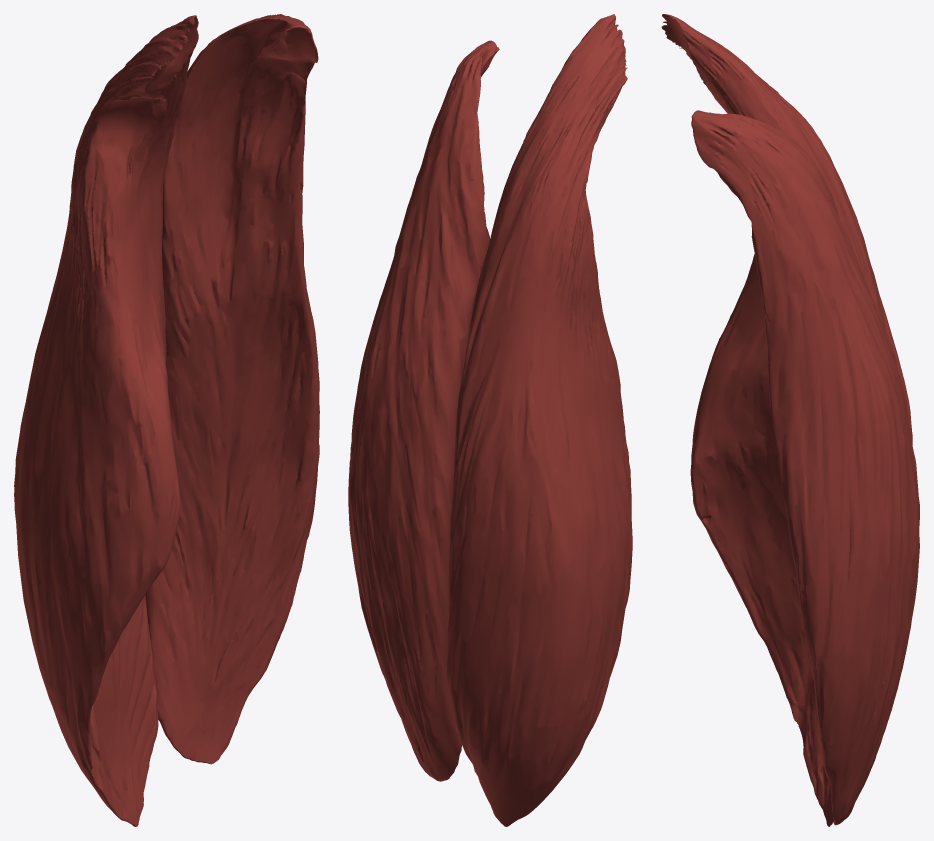
The model's file is explorar-gastrocnemius.glb.
The picture shows the model from 3 angles, left to right: view 1: azimuth 30°, elevation 25°; view 2: azimuth 150°, elevation 25°; view 3: azimuth 270°, elevation 25°; orthographic projection. The views are drawn at different scales.
Parts seen in each view (by area): view 1: gastrocnemius_left__cabeza_lateral, gastrocnemius_left__cabeza_medial; view 2: gastrocnemius_left__cabeza_medial, gastrocnemius_left__cabeza_lateral; view 3: gastrocnemius_left__cabeza_lateral, gastrocnemius_left__cabeza_medial.
Boxes of the visible parts, x1=… form: gastrocnemius_left__cabeza_lateral: x1=145, y1=14, x2=319, y2=764; gastrocnemius_left__cabeza_medial: x1=14, y1=15, x2=198, y2=826; gastrocnemius_left__cabeza_medial: x1=447, y1=14, x2=632, y2=826; gastrocnemius_left__cabeza_lateral: x1=348, y1=40, x2=499, y2=781; gastrocnemius_left__cabeza_lateral: x1=691, y1=110, x2=919, y2=825; gastrocnemius_left__cabeza_medial: x1=661, y1=14, x2=912, y2=826.
Bounding box in the file's own units: 0.0966 × 0.2898 × 0.0853.
